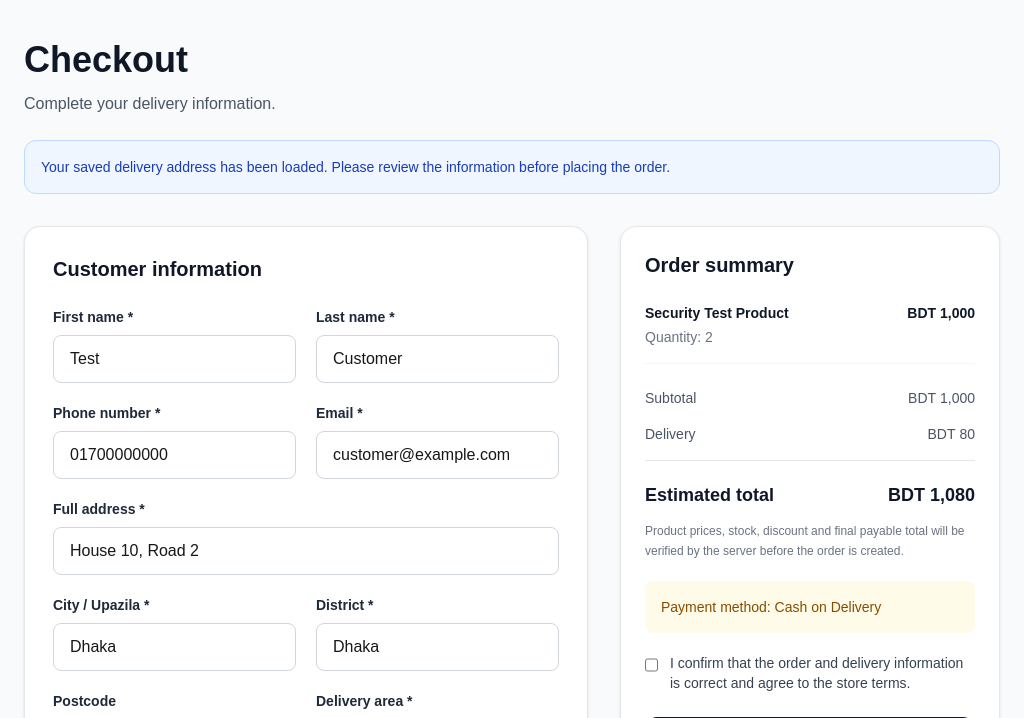
CheckoutClient order submission › submits the order and clears the cart after success
expect the heading "Checkout" is shown: met, box [24,39,188,80]
Step 1. Click the checkbox named "termsAccepted" → (652, 665), box [645,657,658,673]
(page scrolled)
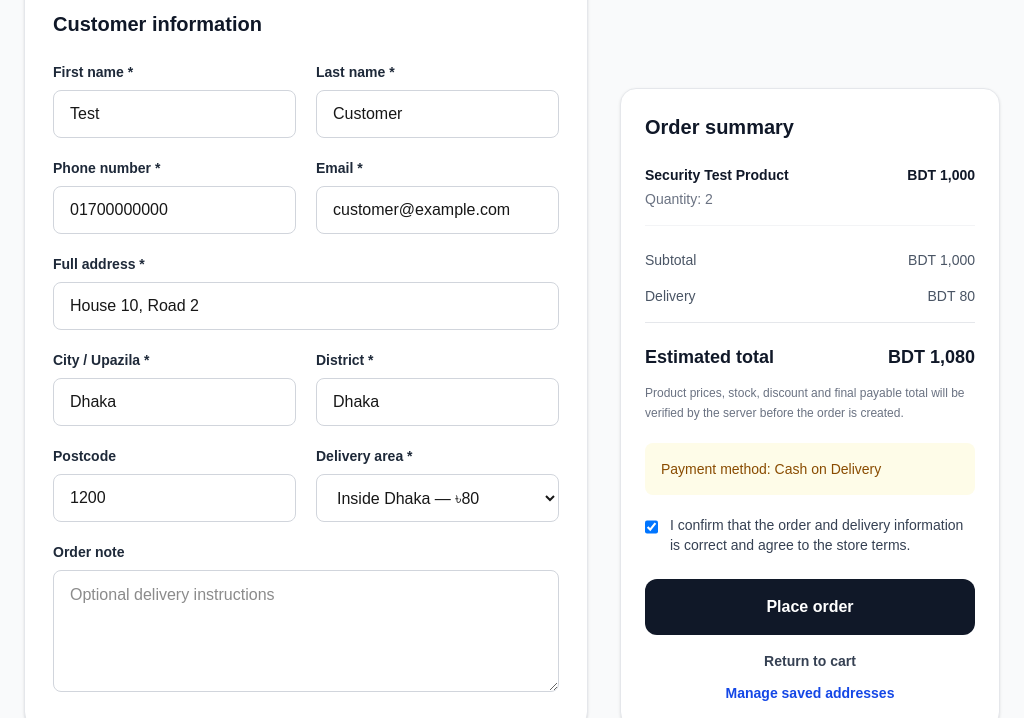
Step 2. Click the button "Place order" → (810, 607), box [645,579,975,635]
(page scrolled)
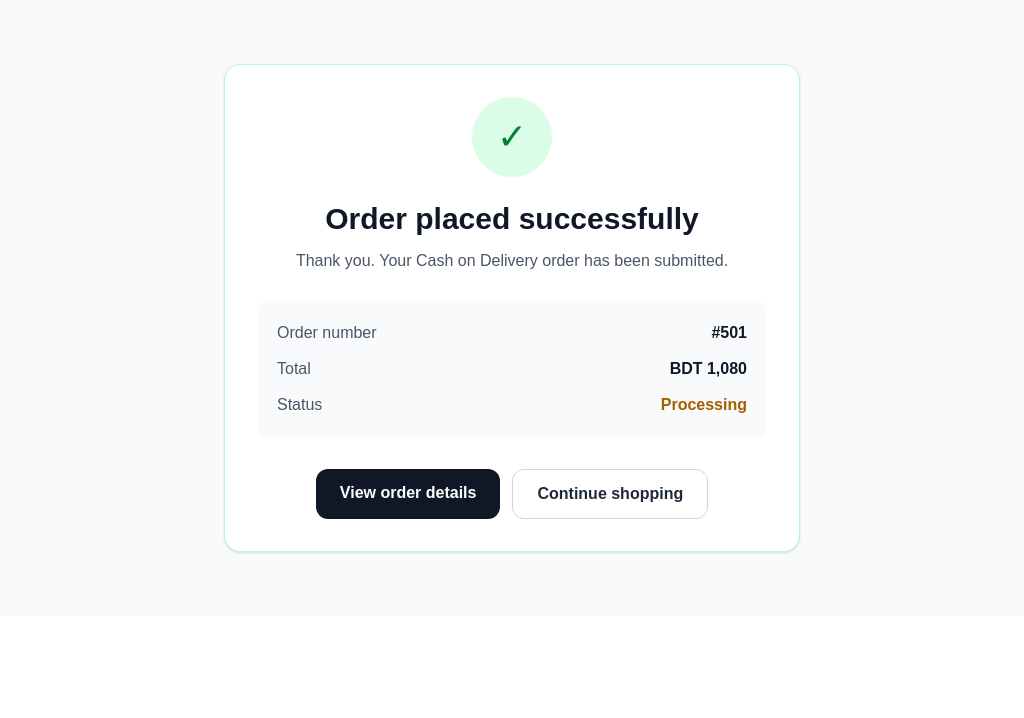
expect the heading "Order placed successfully" is shown: met, box [325,202,699,235]
